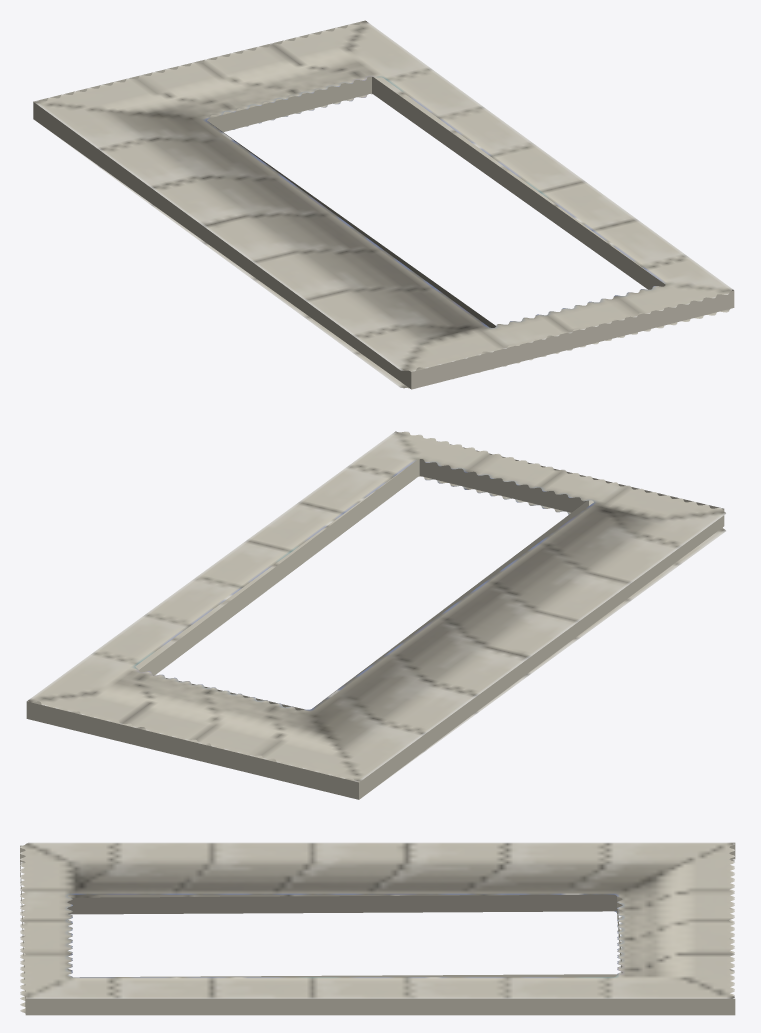
File: pz_native_fixtures_windows_church_81_frame.obj
The picture shows the model from 3 angles, top to bottom: view 1: azimuth 30°, elevation 25°; view 2: azimuth 150°, elevation 25°; view 3: azimuth 270°, elevation 25°; orthographic projection. The views are drawn at different scales.
Visible parts, largest first — view 1: pz_native_fixtures_windows_church_81_frame; view 2: pz_native_fixtures_windows_church_81_frame; view 3: pz_native_fixtures_windows_church_81_frame.
Boxes of the visible parts, <box> form: pz_native_fixtures_windows_church_81_frame: <box>33,20,734,389</box>; pz_native_fixtures_windows_church_81_frame: <box>26,431,725,799</box>; pz_native_fixtures_windows_church_81_frame: <box>20,842,735,1015</box>.
Size of the model in its own units: 0.8438 by 0.04 by 1.58.
Materials: 1 (1 with a texture image).
